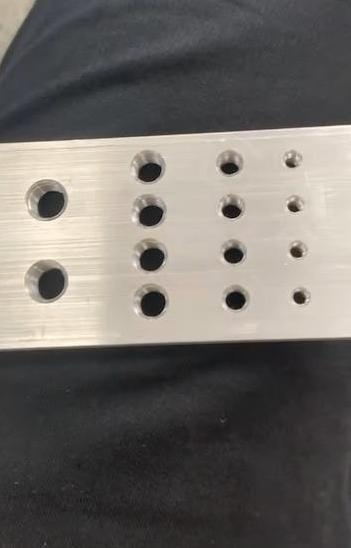hole: (24, 259, 70, 304), (25, 178, 68, 220), (133, 280, 172, 322), (128, 193, 168, 230), (128, 237, 168, 274), (128, 150, 168, 186), (212, 146, 246, 180), (218, 238, 250, 268), (220, 284, 252, 314), (216, 192, 246, 222), (286, 285, 312, 310), (280, 148, 304, 171), (285, 238, 307, 262), (283, 193, 305, 215)
